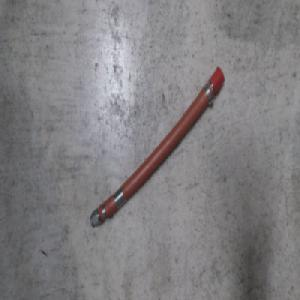Hose: (88, 63, 227, 229)
